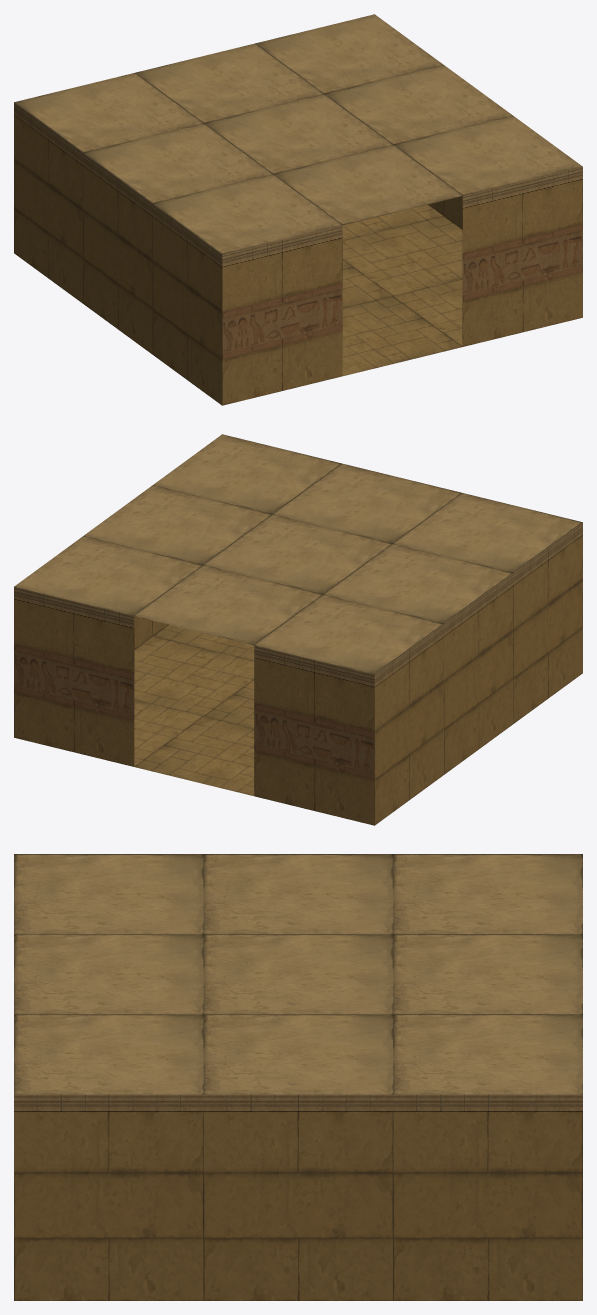
The model's file is Tile_Room.FBX.
3 renders of one model, top to bottom at view 1: azimuth 30°, elevation 25°; view 2: azimuth 150°, elevation 25°; view 3: azimuth 270°, elevation 25°, orthographic. The views are drawn at different scales.
Visible parts, largest first — view 1: m_Puzzle; view 2: m_Puzzle; view 3: m_Puzzle.
Part boxes in pixels (x1,y1,x2,y2): m_Puzzle: [14, 14, 582, 405]; m_Puzzle: [14, 434, 582, 825]; m_Puzzle: [14, 854, 582, 1300].
Size of the model in its own units: 300 by 300 by 120.
Materials: 1 (1 with a texture image).
